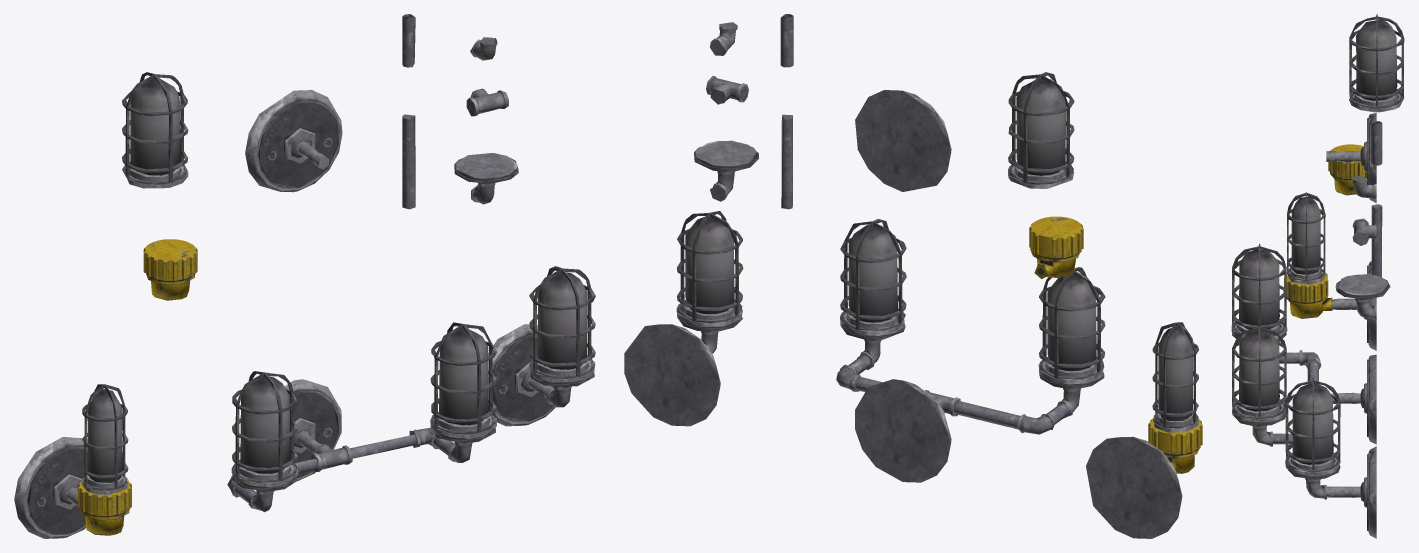
File: industrial_caged_sconce.glb
3 views of the same model, side by side, from view 1: azimuth 30°, elevation 25°; view 2: azimuth 150°, elevation 25°; view 3: azimuth 270°, elevation 25° (orthographic). The views are drawn at different scales.
Visible parts, largest first — view 1: industrial_caged_sconce_b; view 2: industrial_caged_sconce_b; view 3: industrial_caged_sconce_b.
Part boxes in pixels (x1,y1,x2,y2): industrial_caged_sconce_b: (14,14,595,538); industrial_caged_sconce_b: (624,14,1202,538); industrial_caged_sconce_b: (1231,14,1404,538).
Size of the model in its own units: 1.21 by 0.9129 by 0.3894.
Materials: 1 (1 with a texture image).
